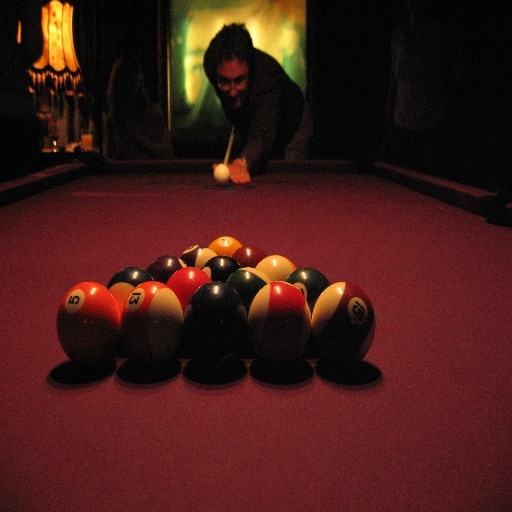hand: (211, 155, 249, 181)
